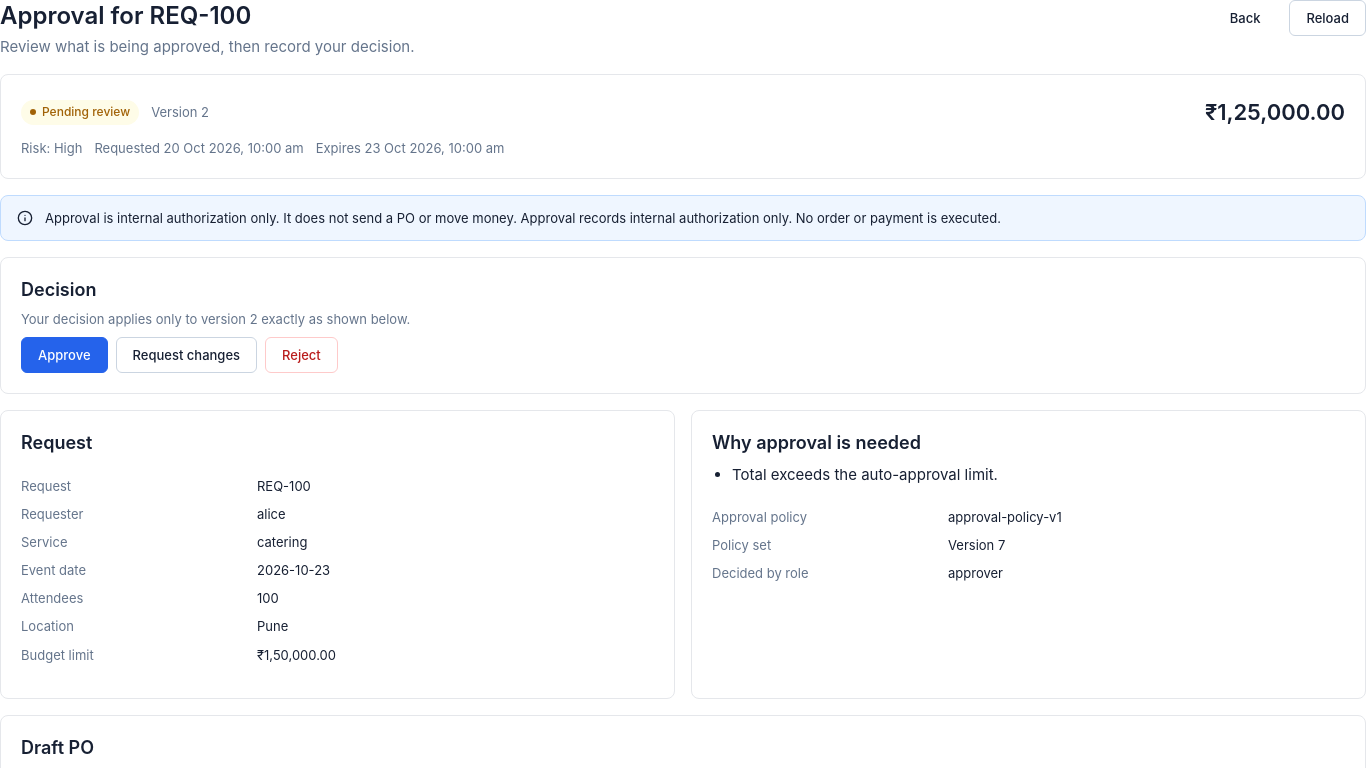
ApprovalDetailPage › approve: confirm dialog posts DecisionIn with a stable idempotency key and shows the result only after success
Step 1. Click the button "Approve" → (64, 355), box [21,337,108,373]
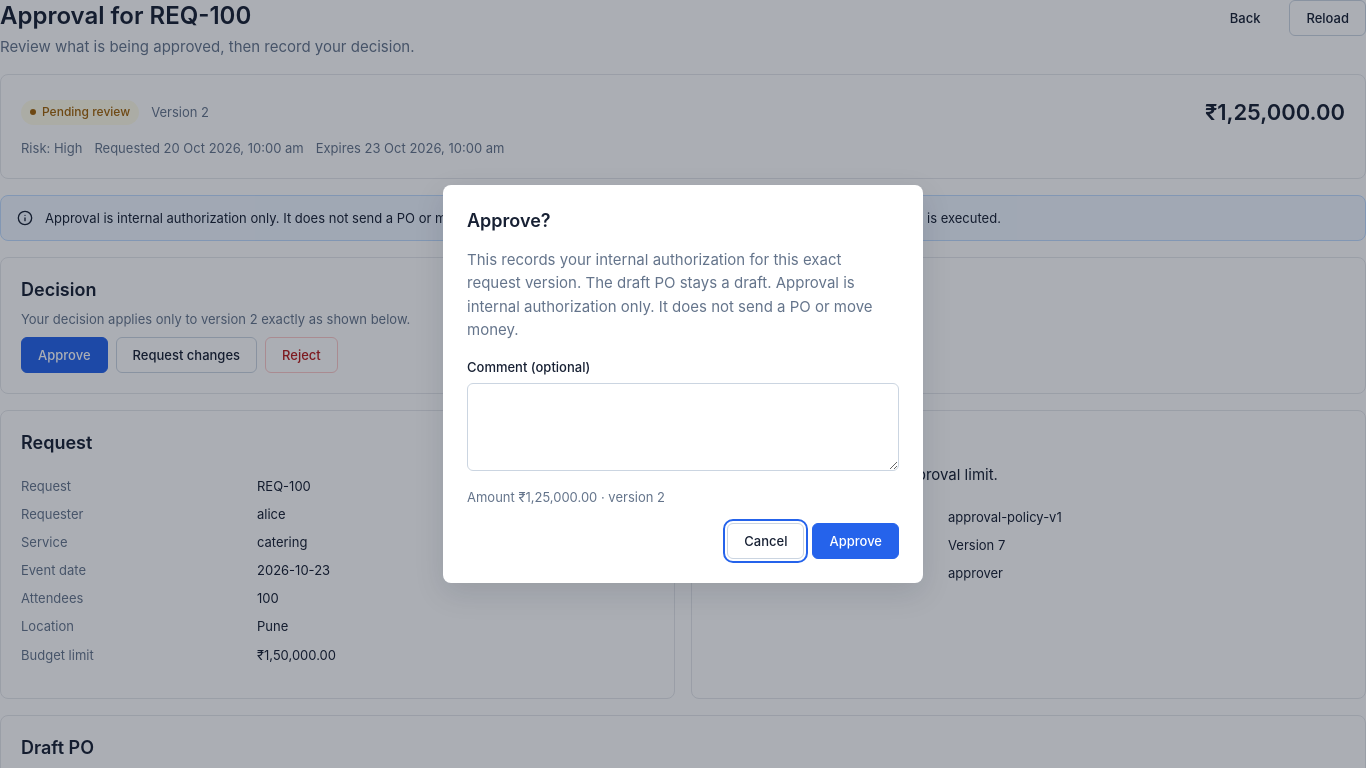
Step 2. Type "Looks fine" into the text box labelled "Comment (optional)" → (683, 427), box [467,383,899,471]
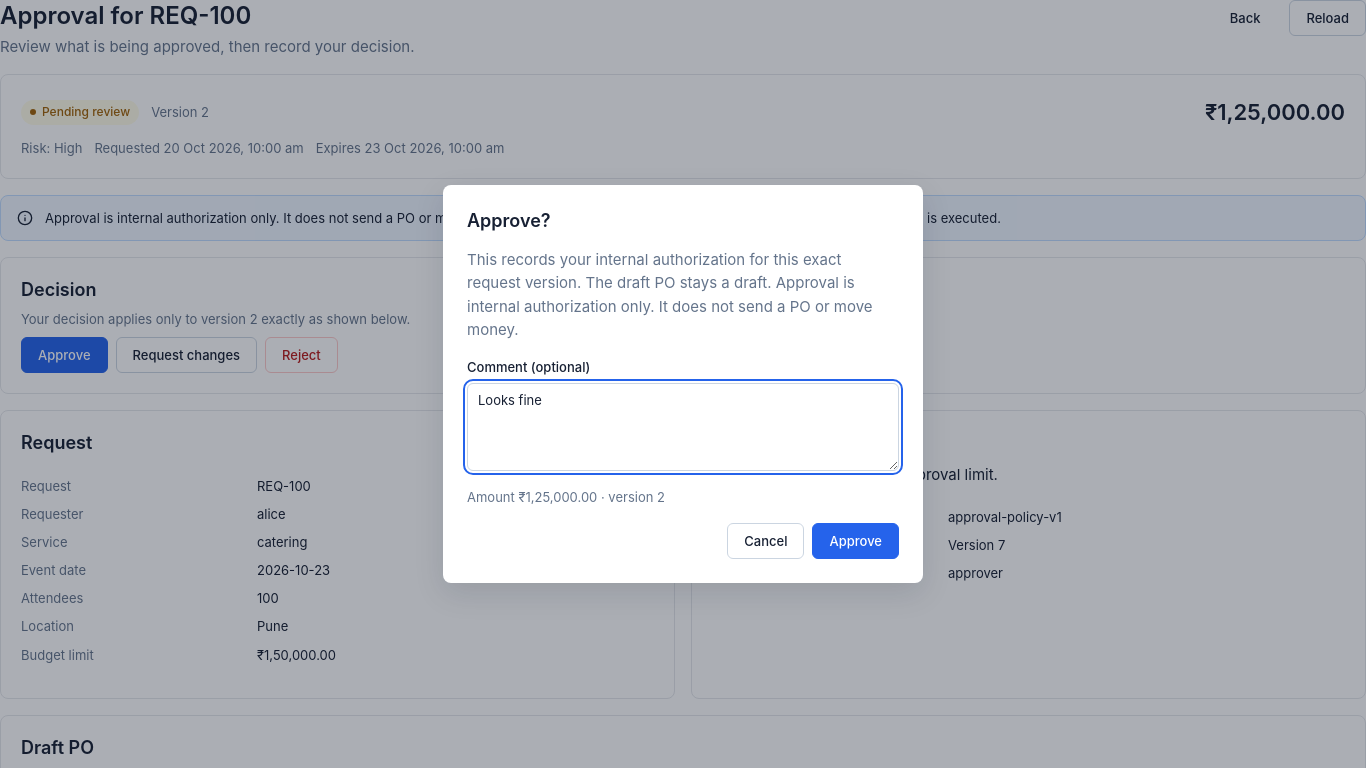
Step 3. Click the button "Approve" → (856, 541), box [812,523,899,559]
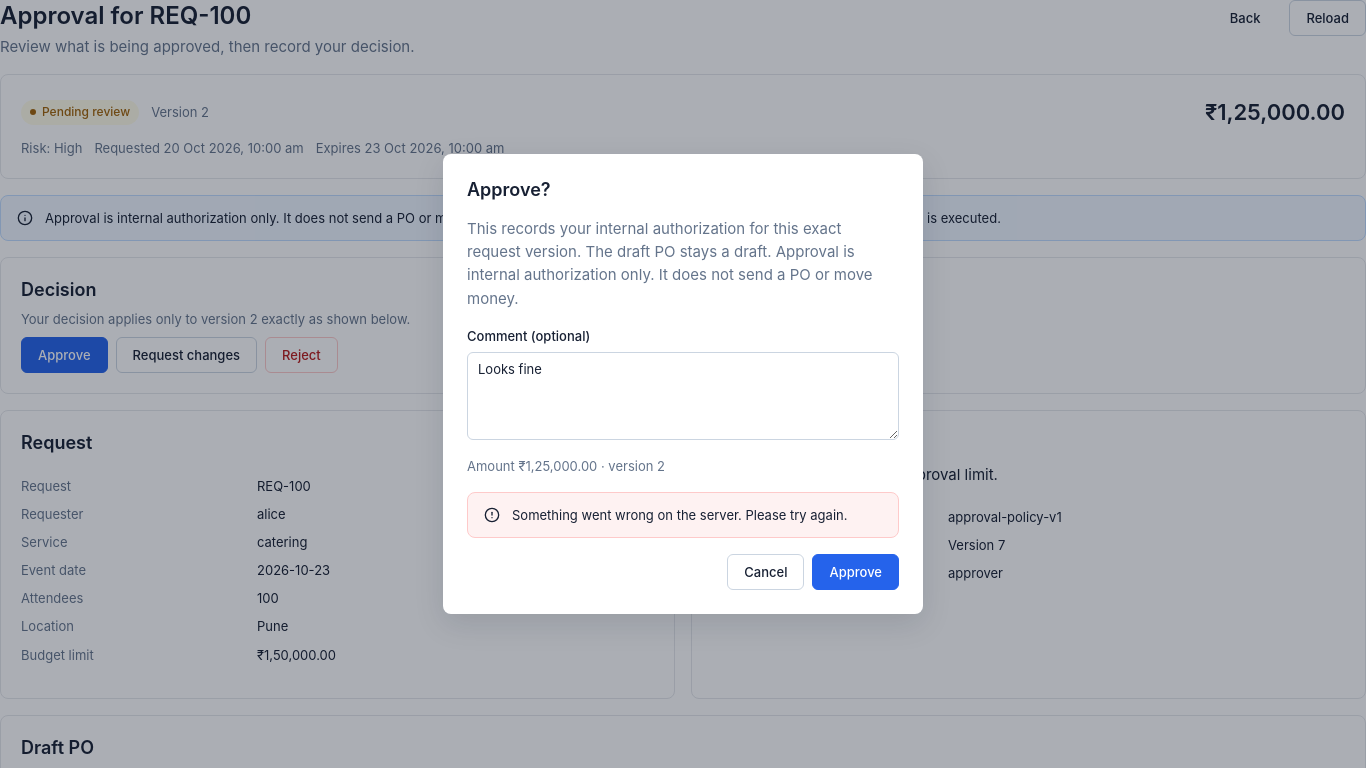
Expected: the text "Recorded: Approved" is not shown
Now the text "Something went wrong on the server. Please try again." is shown, box [512,505,848,525]
Step 4. Click the button "Approve" → (856, 572), box [812,554,899,590]
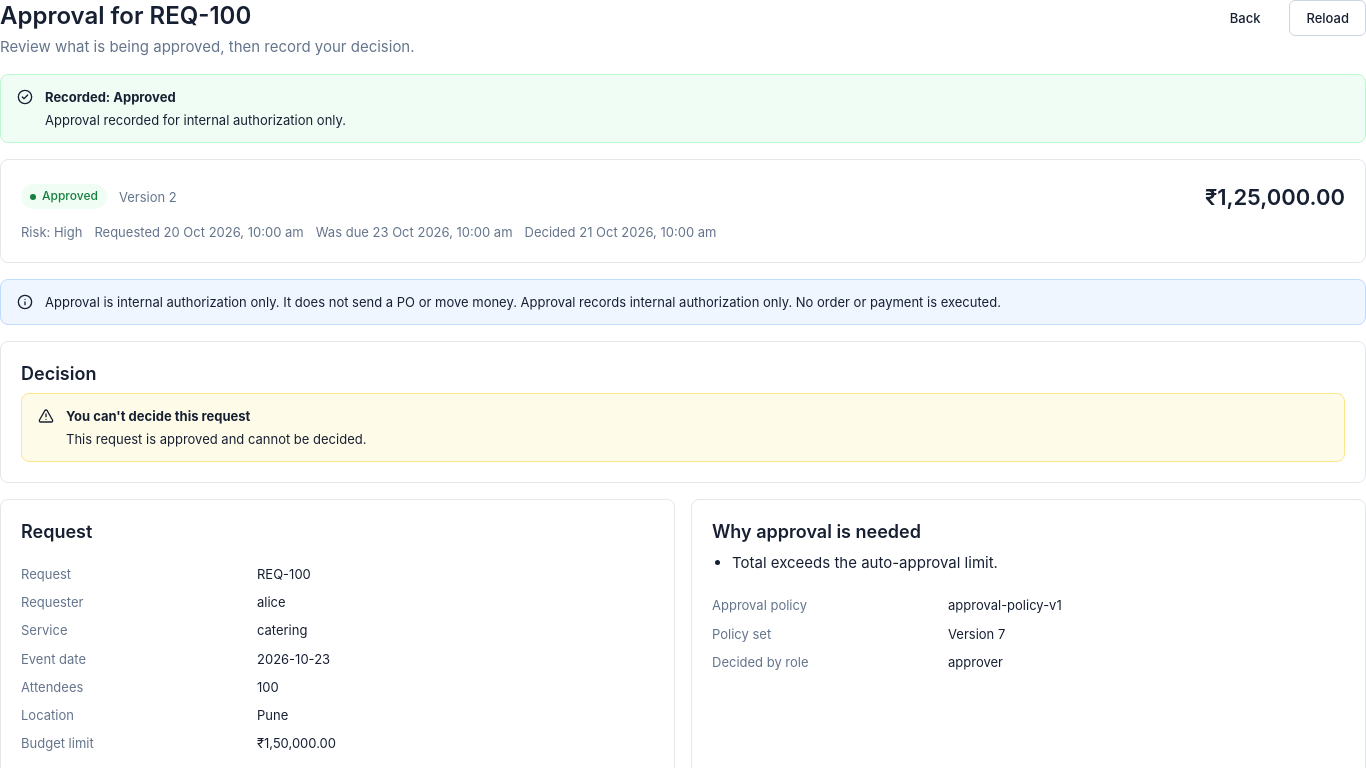
Now the text "Recorded: Approved" is shown, box [45,89,176,105]
Now the dialog is gone
Now the button "Request changes" is gone
